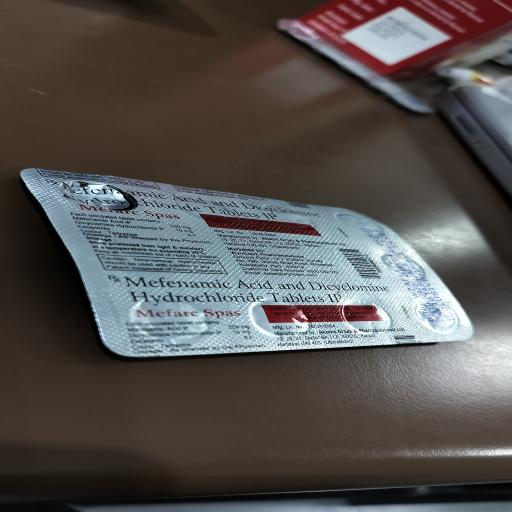Mefenamic-Acid-HCL-Tablets: (50, 183, 328, 227), (100, 269, 406, 302)
medicine: (20, 168, 472, 351)
